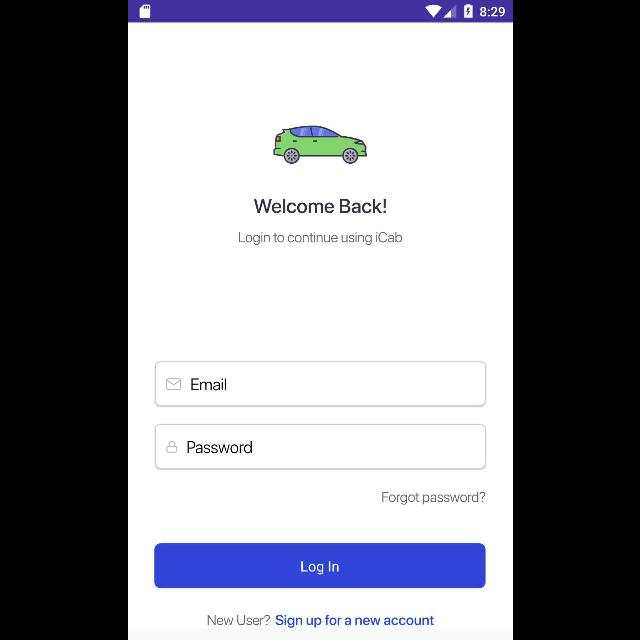icon: (166, 378, 180, 390), (166, 441, 177, 453)
image: (273, 126, 367, 164)
input: (154, 361, 486, 407), (154, 424, 486, 470)
text: (275, 614, 433, 628), (238, 232, 402, 245), (253, 198, 385, 214), (382, 492, 484, 504), (187, 441, 251, 453), (207, 614, 270, 626), (191, 379, 225, 391)
textbutton: (153, 544, 484, 588)
uppertaskbar: (128, 1, 512, 23)
